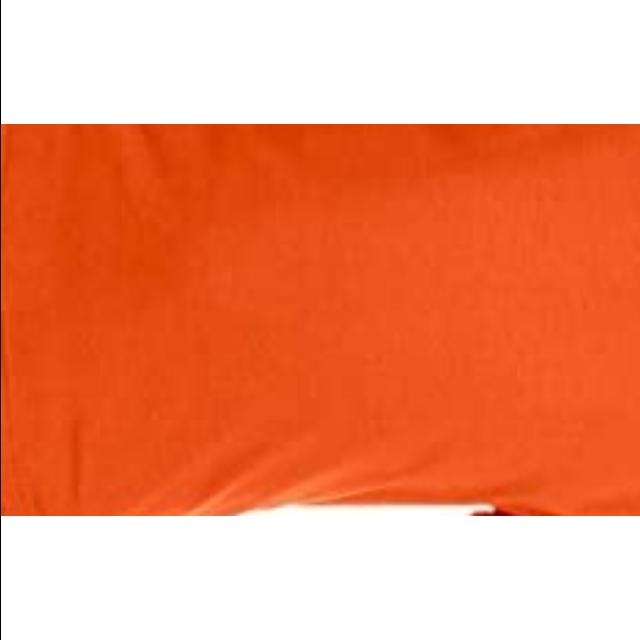polyester: (0, 124, 640, 516)
